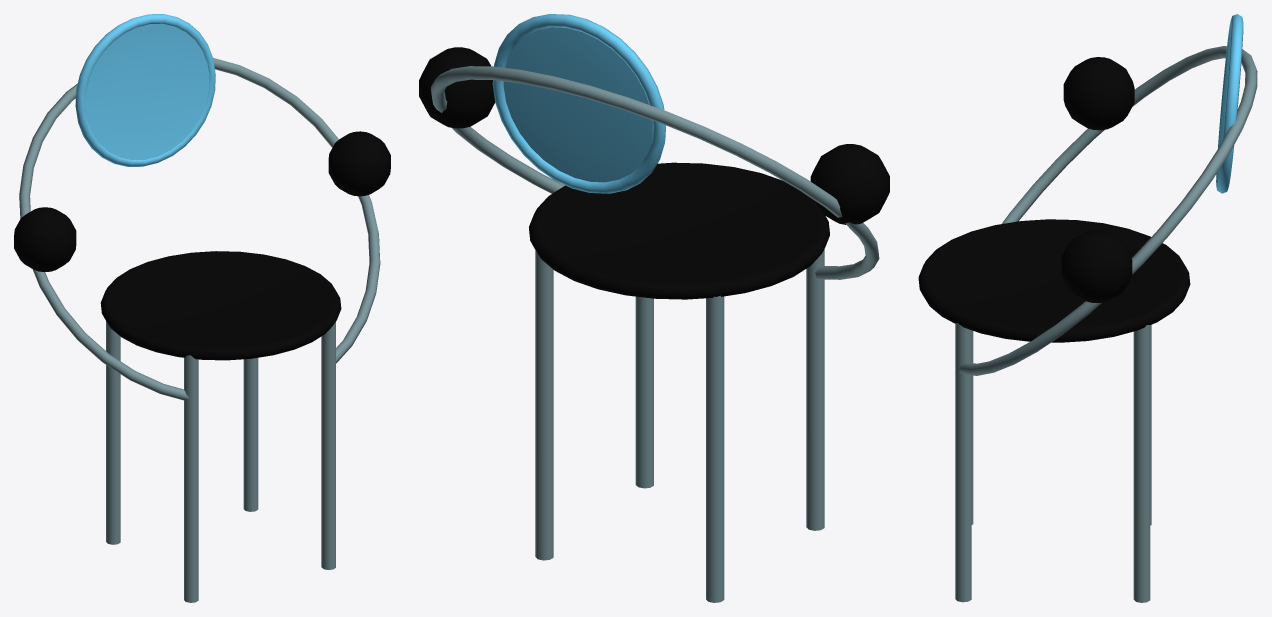
File: lucchi01.glb
3 views of the same model, side by side, from view 1: azimuth 30°, elevation 25°; view 2: azimuth 150°, elevation 25°; view 3: azimuth 270°, elevation 25° (orthographic). The views are drawn at different scales.
Visible parts, largest first — view 1: seat, back, arms, seat_ring, BackRing, leg_1, leg_2, Sphere_1, Sphere, leg_3, leg; view 2: seat, back_2, arms, seat_ring, BackRing, leg_3, leg, leg_1, Sphere_1, Sphere, leg_2; view 3: seat, arms, seat_ring, leg, leg_2, Sphere_1, Sphere, BackRing, leg_1.
Part boxes in pixels (x1,y1,x2,y2): seat: [107, 252, 335, 348]; back: [85, 23, 209, 160]; arms: [19, 58, 380, 400]; seat_ring: [100, 251, 341, 360]; BackRing: [75, 14, 215, 166]; leg_1: [184, 355, 198, 602]; leg_2: [321, 322, 335, 569]; Sphere_1: [14, 207, 76, 272]; Sphere: [328, 131, 390, 196]; leg_3: [106, 321, 120, 544]; leg: [243, 357, 258, 511]; seat: [537, 163, 822, 283]; back_2: [503, 27, 652, 182]; arms: [431, 66, 879, 279]; seat_ring: [529, 162, 829, 299]; BackRing: [492, 14, 666, 193]; leg_3: [706, 295, 724, 602]; leg: [535, 250, 553, 560]; leg_1: [806, 249, 824, 530]; Sphere_1: [810, 144, 889, 224]; Sphere: [419, 47, 495, 128]; leg_2: [635, 296, 653, 488]; seat: [925, 220, 1181, 328]; arms: [959, 46, 1257, 375]; seat_ring: [918, 219, 1190, 342]; leg: [1133, 325, 1150, 602]; leg_2: [955, 323, 971, 602]; Sphere_1: [1063, 57, 1134, 130]; Sphere: [1061, 230, 1132, 302]; BackRing: [1216, 14, 1243, 193]; leg_1: [971, 330, 973, 524].
Bounding box in the file's own units: 1.71 × 2.12 × 1.21.
